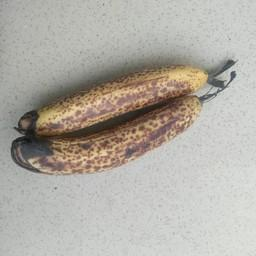Bad_banana: (10, 92, 225, 181), (8, 57, 235, 131)
